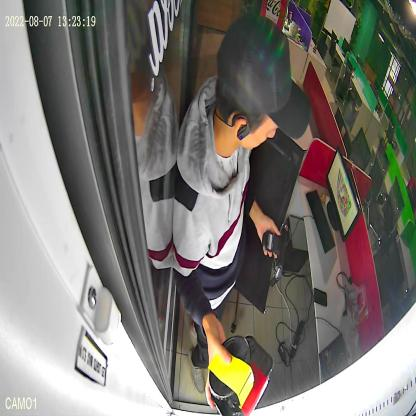red: (213, 335, 275, 416)
yellow: (207, 336, 255, 410)
